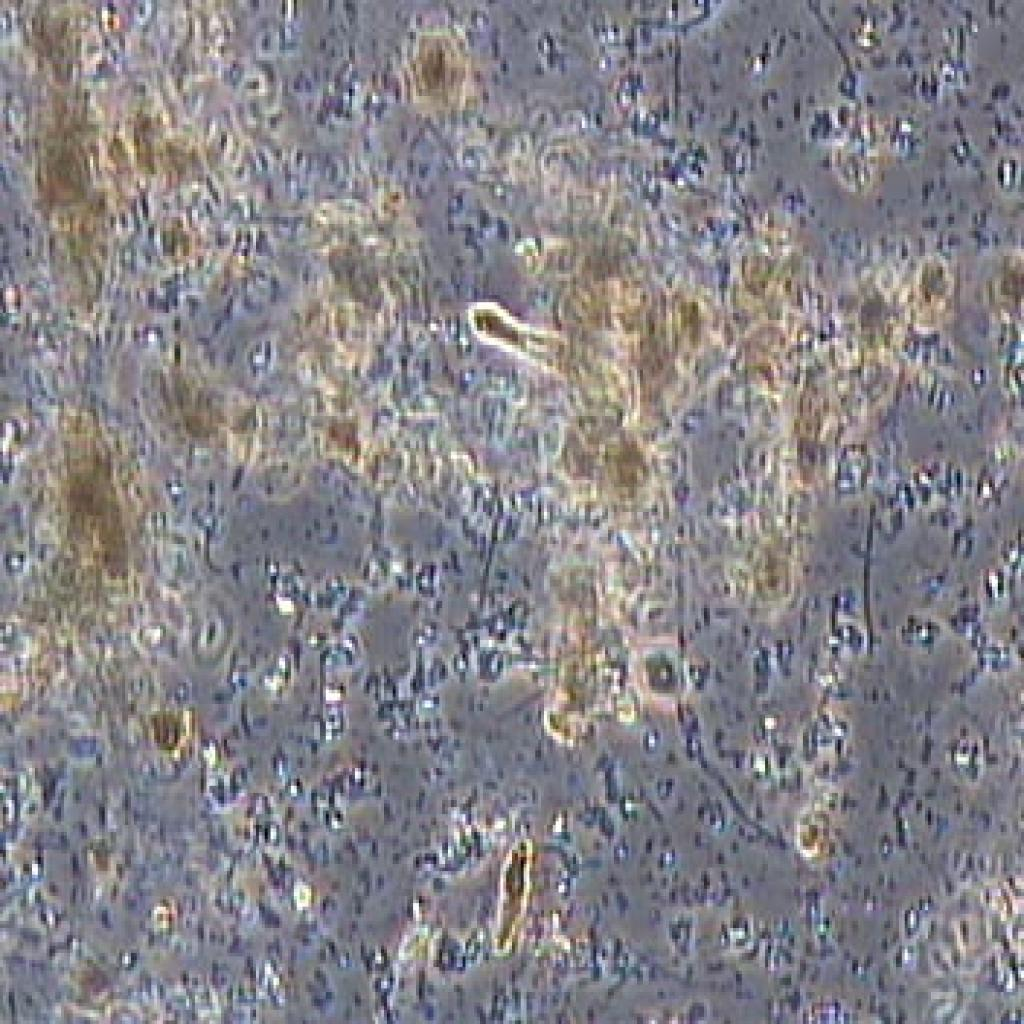Chaetonotus: (460, 292, 637, 420)
